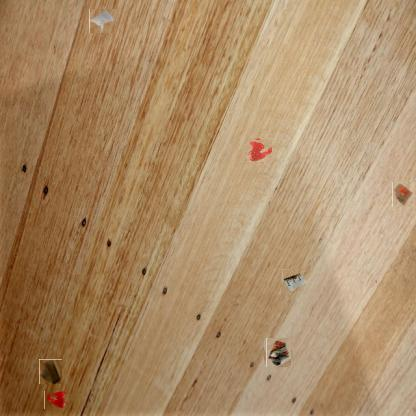dirty: (265, 339, 293, 366), (89, 9, 116, 33), (392, 181, 415, 207), (39, 359, 62, 384), (282, 269, 306, 291)
liquid: (247, 140, 272, 164), (44, 392, 67, 410)
